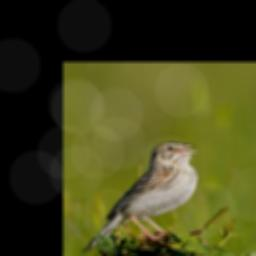Sparrow: (76, 142, 194, 255)
